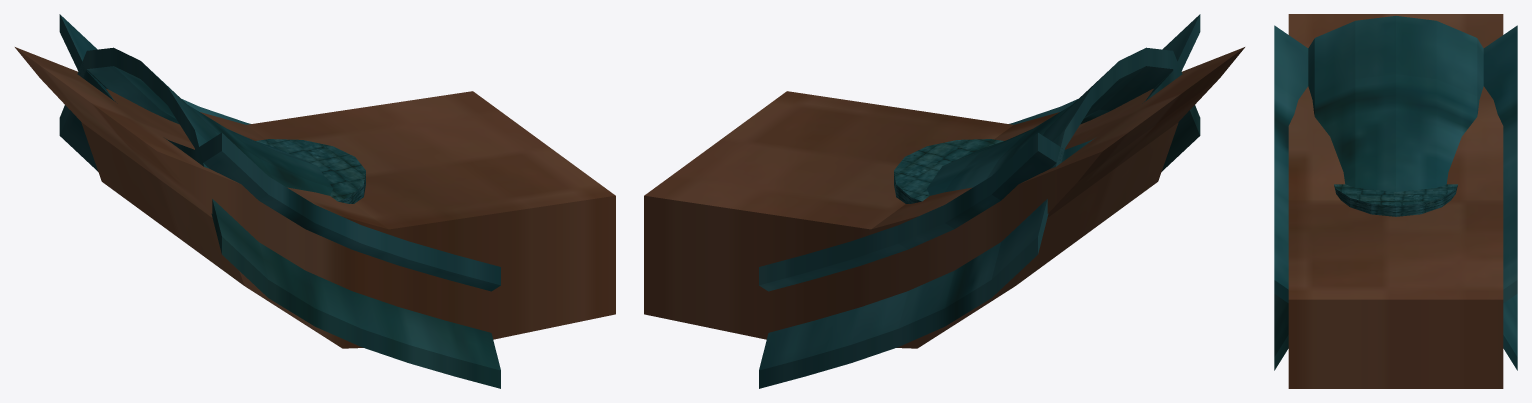
File: R72-03-REAL-CC0-PBR-FOUR-PIECE-TILE-KIT-B.glb
3 views of the same model, side by side, from view 1: azimuth 30°, elevation 25°; view 2: azimuth 150°, elevation 25°; view 3: azimuth 270°, elevation 25° (orthographic). The views are drawn at different scales.
Visible parts, largest first — view 1: R72_REAL_B_BRACKET, R72_REAL_B_BARREL, R72_REAL_B_PAN, R72_REAL_B_ENDCAP; view 2: R72_REAL_B_BRACKET, R72_REAL_B_BARREL, R72_REAL_B_PAN, R72_REAL_B_ENDCAP; view 3: R72_REAL_B_BRACKET, R72_REAL_B_BARREL, R72_REAL_B_PAN, R72_REAL_B_ENDCAP.
Boxes of the visible parts, <box> form: R72_REAL_B_BRACKET: <box>15,47,615,348</box>; R72_REAL_B_BARREL: <box>59,47,500,388</box>; R72_REAL_B_PAN: <box>59,14,500,291</box>; R72_REAL_B_ENDCAP: <box>256,139,365,203</box>; R72_REAL_B_BRACKET: <box>644,47,1244,348</box>; R72_REAL_B_BARREL: <box>759,47,1200,388</box>; R72_REAL_B_PAN: <box>759,14,1200,291</box>; R72_REAL_B_ENDCAP: <box>894,139,1003,203</box>; R72_REAL_B_BRACKET: <box>1288,14,1503,388</box>; R72_REAL_B_BARREL: <box>1274,16,1517,370</box>; R72_REAL_B_PAN: <box>1274,25,1517,302</box>; R72_REAL_B_ENDCAP: <box>1334,184,1457,216</box>.
Size of the model in its own units: 0.89 by 0.6246 by 0.5444.
2 materials, 2 textured.
